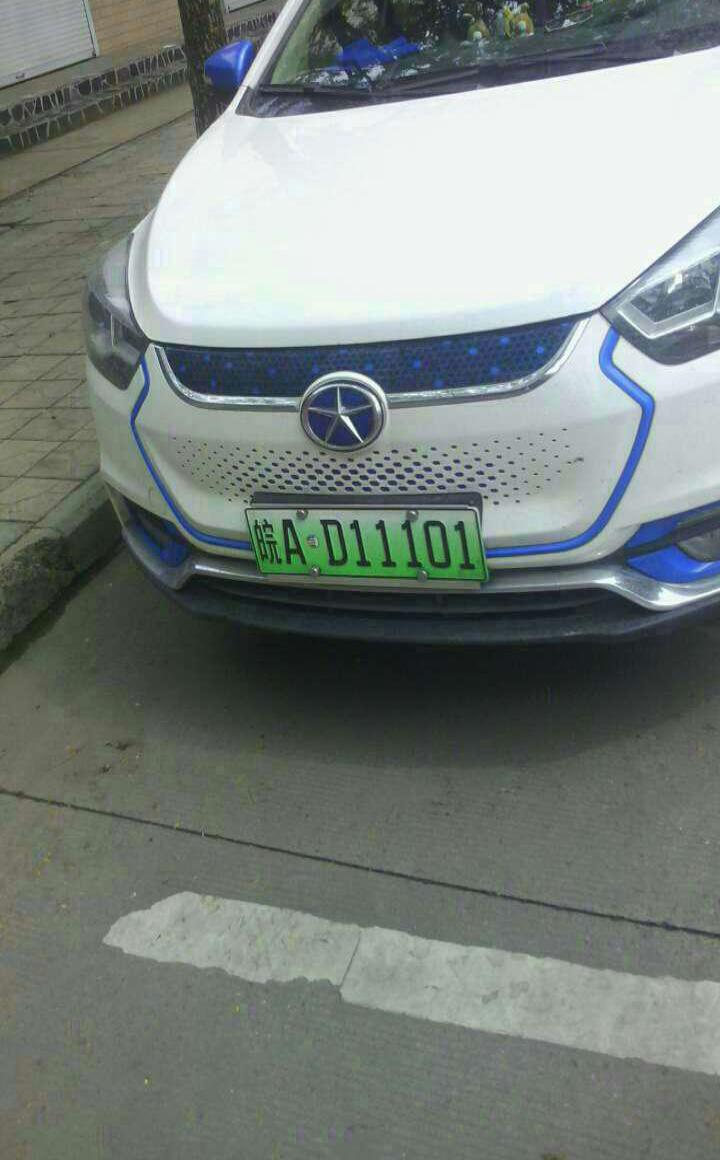car_green: (243, 504, 491, 593)
